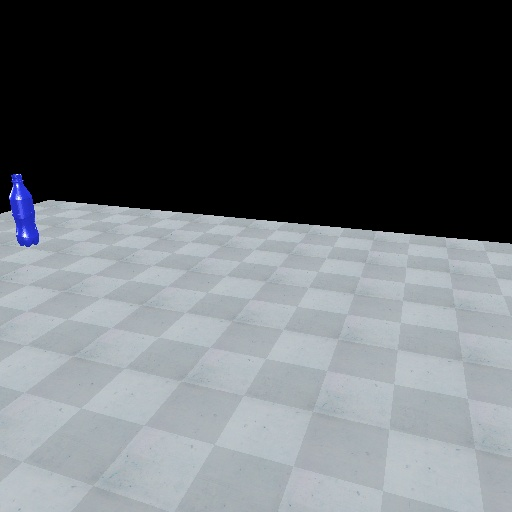bottle: (6, 170, 41, 249)
